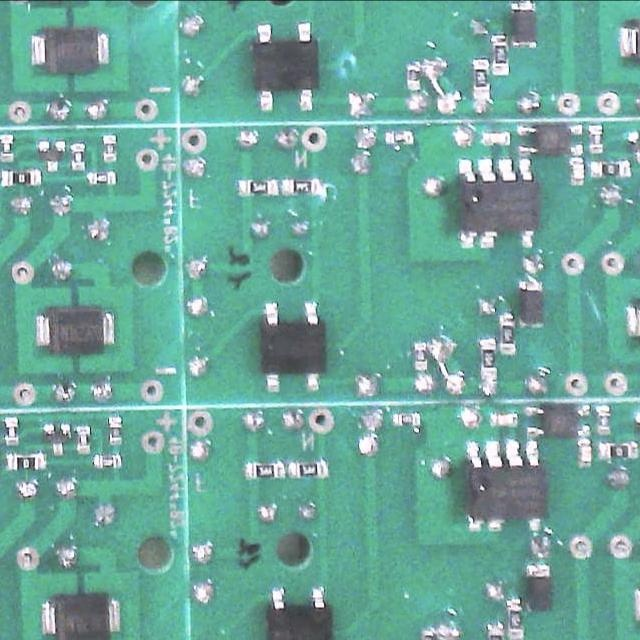chip-capacitor: (481, 131, 510, 145), (571, 158, 584, 184), (491, 414, 517, 426), (581, 443, 592, 465)
chip-resistor: (491, 33, 510, 75), (473, 58, 490, 98), (239, 179, 278, 196), (480, 338, 497, 377), (3, 170, 42, 186), (593, 160, 631, 176), (281, 179, 319, 195), (500, 318, 516, 354), (8, 454, 44, 470), (599, 443, 637, 457), (248, 463, 284, 477), (508, 605, 523, 637), (293, 463, 327, 477), (385, 130, 414, 144), (88, 171, 117, 185), (71, 143, 86, 170), (77, 426, 91, 454), (406, 65, 421, 91), (5, 418, 19, 445), (103, 135, 117, 161), (1, 134, 14, 162), (590, 126, 603, 153), (415, 342, 428, 369), (94, 455, 121, 468), (110, 417, 123, 443), (598, 406, 610, 434), (395, 414, 420, 425)
diode: (37, 306, 115, 352), (44, 593, 119, 640), (33, 26, 108, 73), (511, 1, 537, 48), (526, 564, 550, 612), (519, 281, 544, 327)
ic: (458, 156, 541, 248), (465, 440, 547, 531), (259, 301, 326, 391), (253, 24, 320, 112), (265, 584, 332, 640), (525, 404, 591, 438), (518, 124, 585, 156)
transistor: (40, 140, 67, 171), (45, 424, 71, 456)
